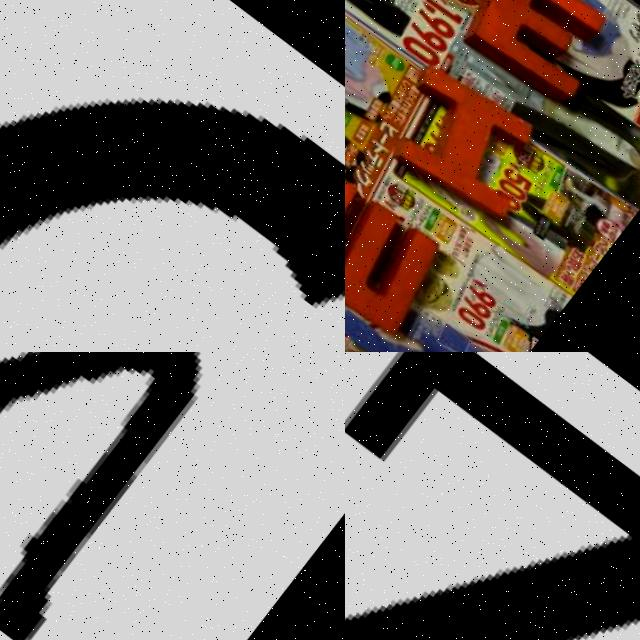C: (0, 97, 345, 304)
E: (451, 0, 626, 106)
H: (0, 352, 201, 640)
I: (372, 50, 560, 225)
W: (345, 166, 464, 337)
Z: (345, 352, 640, 640)
